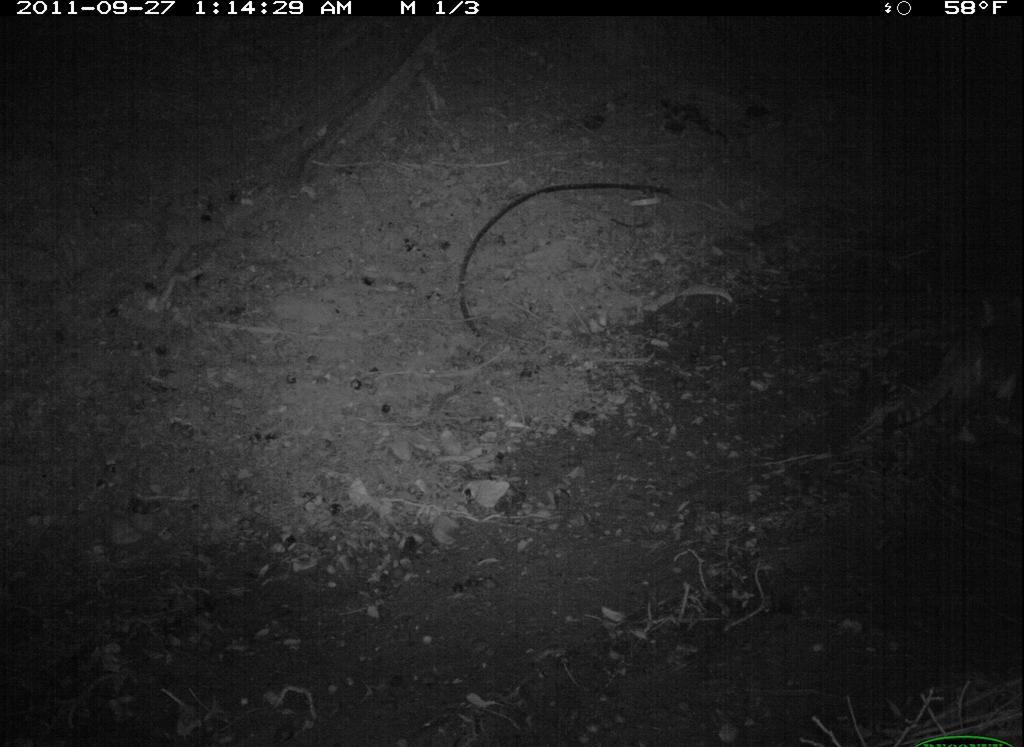cat: (876, 281, 1022, 447)
